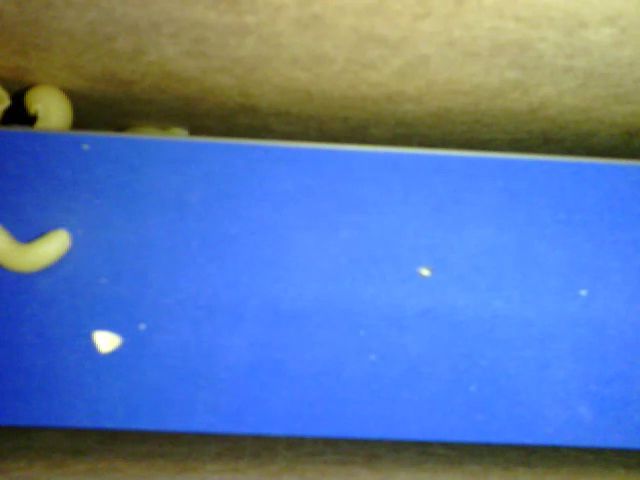elbow: (3, 221, 75, 273)
shell: (23, 82, 79, 138)
